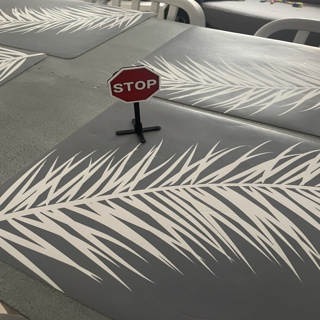sign_stop: (104, 63, 158, 100)
